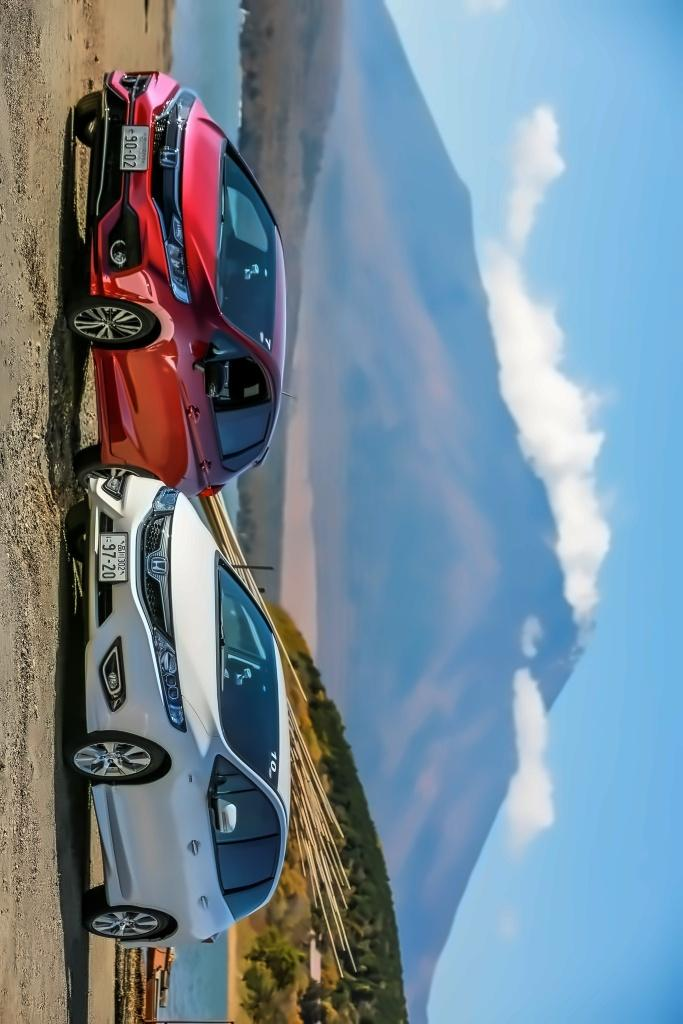Car hood: (168, 488, 226, 738), (178, 94, 225, 315)
Fender - -F-L-: (98, 693, 231, 788), (98, 305, 233, 354)
Fender - -R-L-: (108, 903, 220, 939), (119, 464, 215, 490)
Front bumper: (82, 473, 161, 754), (85, 64, 174, 310)
Headlight - -L-: (149, 623, 189, 731), (160, 207, 194, 307)
Headlight - -R-: (163, 82, 204, 124), (148, 483, 184, 517)
Passenger-s door - -F-L-: (100, 356, 279, 425), (105, 788, 285, 856)
Passenger-s door - -R-L-: (105, 843, 285, 911), (103, 424, 277, 475)
Rear bumper: (109, 934, 176, 952)
Rear light - -L-: (196, 481, 227, 502), (198, 928, 226, 950)
Side bumper - -L-: (86, 778, 127, 910), (89, 339, 128, 469)
Side mirror - -L-: (190, 355, 230, 404), (209, 795, 239, 836)
